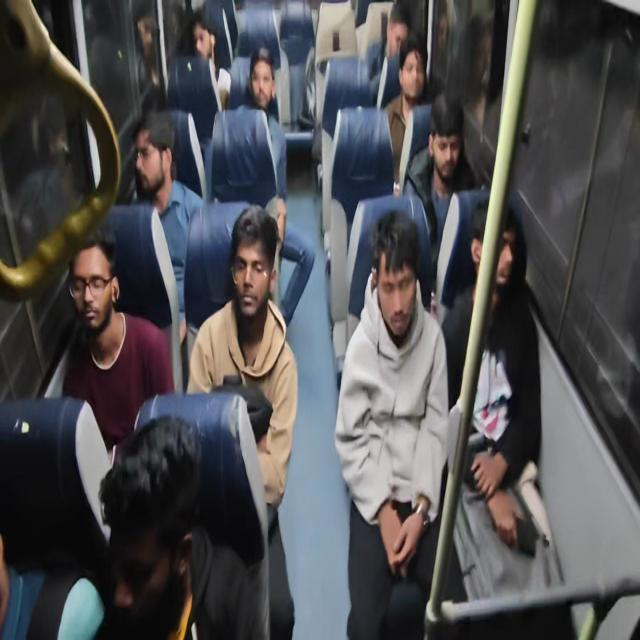person: (94, 408, 257, 640), (3, 199, 114, 373), (0, 445, 94, 639), (356, 209, 432, 371), (116, 109, 206, 220), (471, 199, 544, 322), (209, 206, 273, 336), (393, 44, 448, 132), (426, 96, 472, 186), (248, 39, 283, 125), (186, 1, 227, 72), (380, 2, 412, 53)
